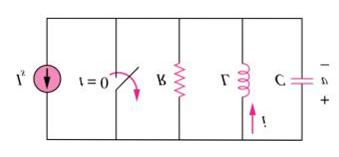inductor: (230, 57, 253, 103)
